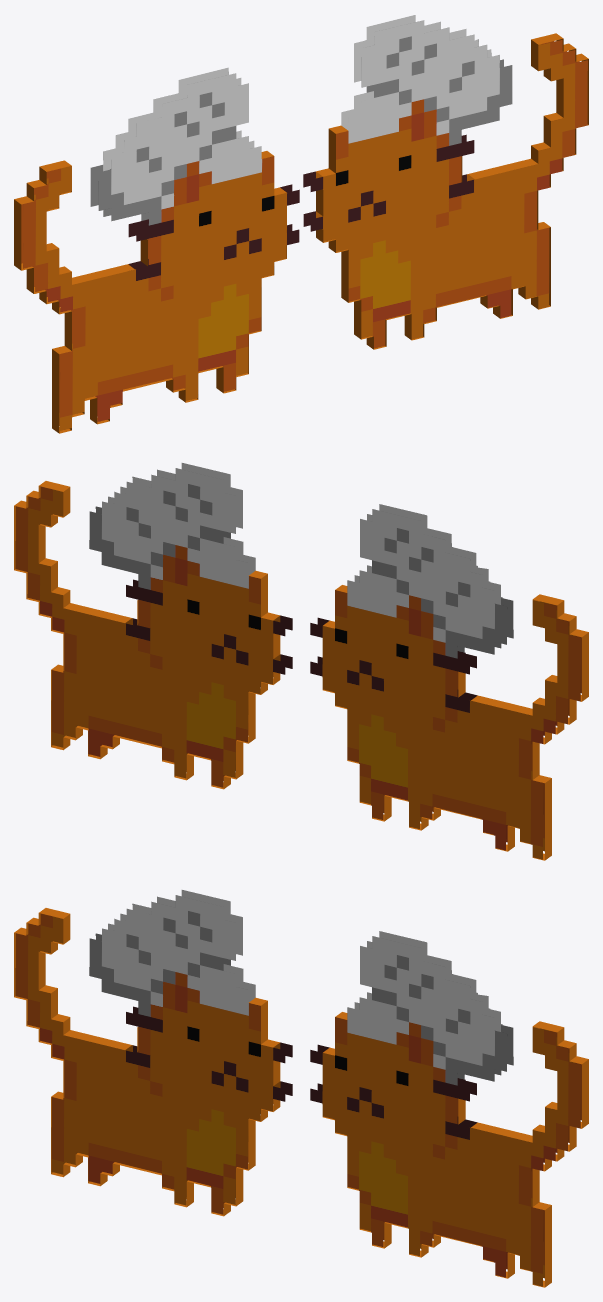
File: CatRightLeft.fbx
The picture shows the model from 3 angles, top to bottom: view 1: azimuth 30°, elevation 25°; view 2: azimuth 150°, elevation 25°; view 3: azimuth 330°, elevation 25°; orthographic projection. The views are drawn at different scales.
Visible parts, largest first — view 1: LeftCat, RightCat; view 2: LeftCat, RightCat; view 3: RightCat, LeftCat.
Part boxes in pixels (bbox=[...]): LeftCat: bbox=[14, 67, 299, 433]; RightCat: bbox=[303, 15, 588, 349]; LeftCat: bbox=[310, 504, 588, 860]; RightCat: bbox=[14, 463, 292, 789]; RightCat: bbox=[310, 931, 588, 1287]; LeftCat: bbox=[14, 890, 292, 1216].
Bounding box in the file's own units: 454 × 240 × 20.
